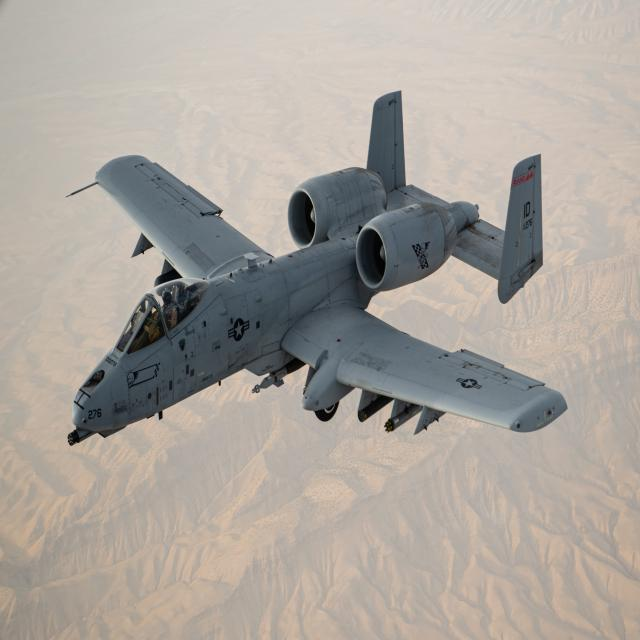A10: (42, 69, 576, 499)
